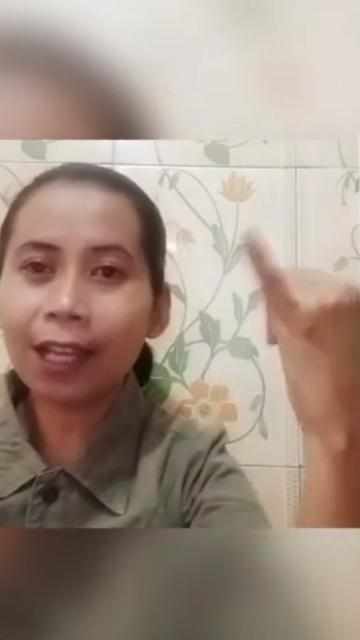J: (240, 219, 360, 451)
